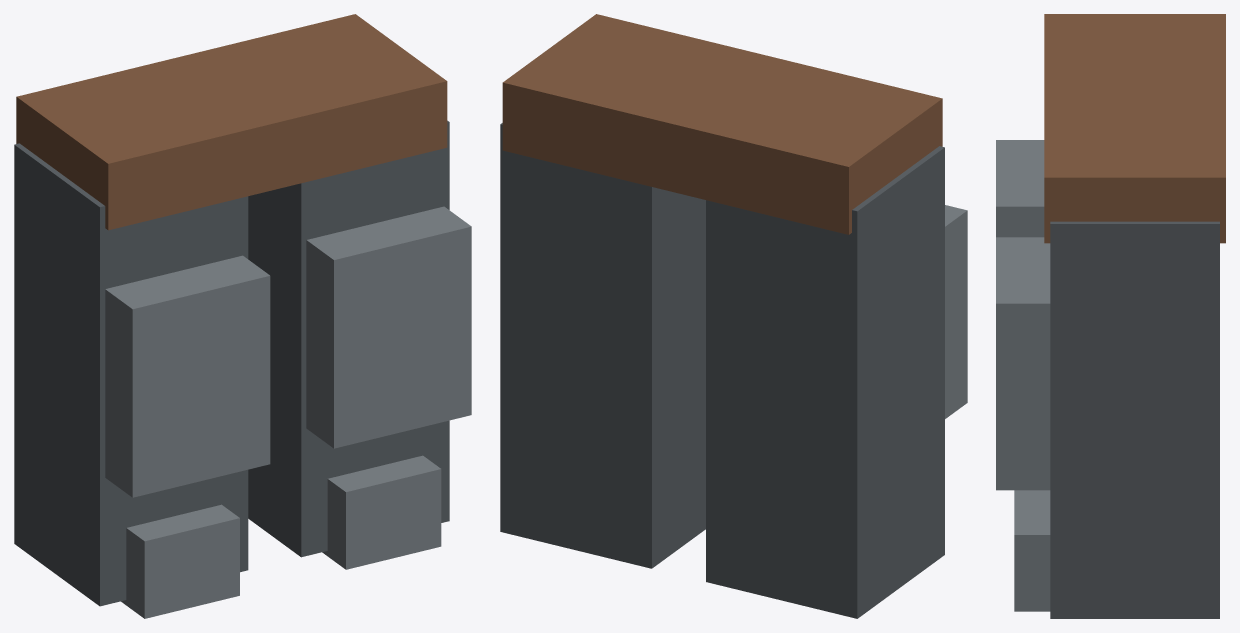
The model's file is item_armour_legs_plated.glb.
The picture shows the model from 3 angles, left to right: view 1: azimuth 30°, elevation 25°; view 2: azimuth 150°, elevation 25°; view 3: azimuth 270°, elevation 25°; orthographic projection. The views are drawn at different scales.
Parts seen in each view (by area): view 1: belt, thigh_l, plate_r, plate_l, thigh_r, knee_r, knee_l; view 2: thigh_l, thigh_r, belt, plate_l; view 3: thigh_r, belt, plate_r, plate_l, knee_r.
Boxes of the visible parts, box(x1,y1,x2,y2) form: belt: box(16, 14, 447, 230); thigh_l: box(14, 143, 248, 606); plate_r: box(306, 206, 471, 448); plate_l: box(105, 255, 270, 497); thigh_r: box(248, 120, 449, 557); knee_r: box(322, 455, 441, 569); knee_l: box(121, 504, 239, 618); thigh_l: box(706, 146, 944, 618); thigh_r: box(500, 123, 705, 568); belt: box(502, 14, 942, 234); plate_l: box(945, 205, 967, 418); thigh_r: box(1050, 221, 1219, 618); belt: box(1044, 14, 1225, 243); plate_r: box(996, 237, 1050, 490); plate_l: box(996, 140, 1044, 237); knee_r: box(1014, 490, 1050, 611).
Bounding box in the file's own units: 0.66 × 0.81 × 0.38.
